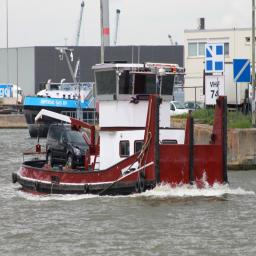tugboat: (13, 62, 233, 204)
